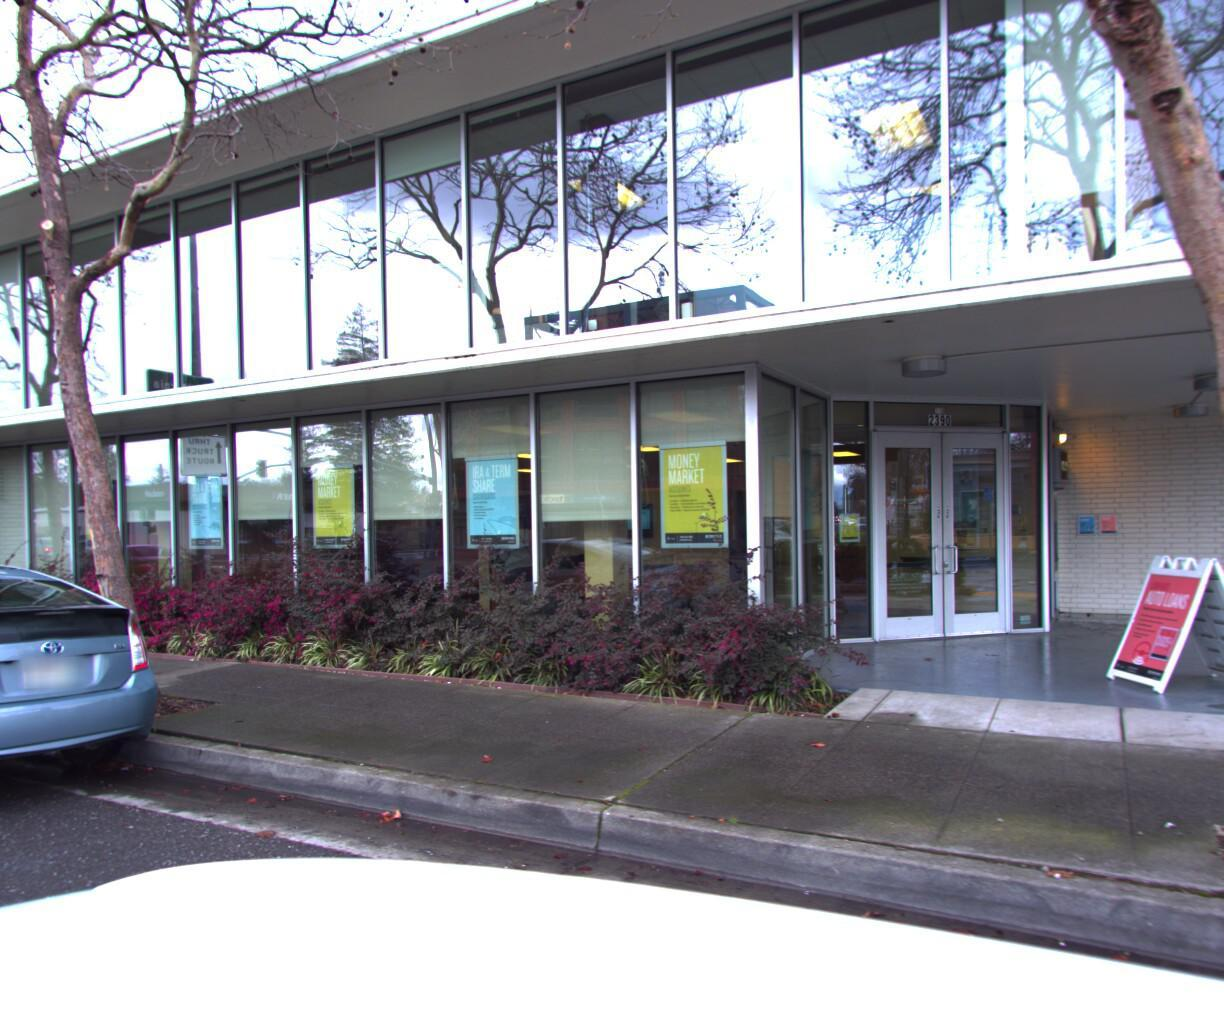car: (0, 555, 176, 879)
